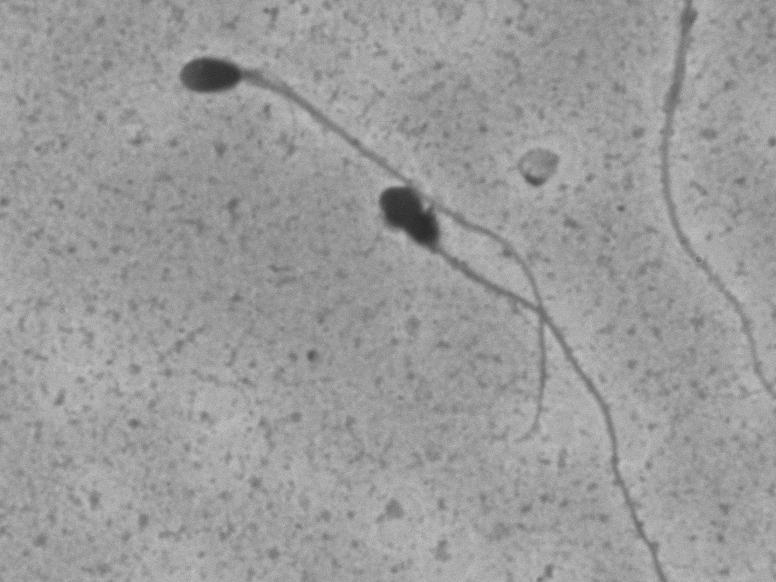Normal: (146, 39, 554, 471)
